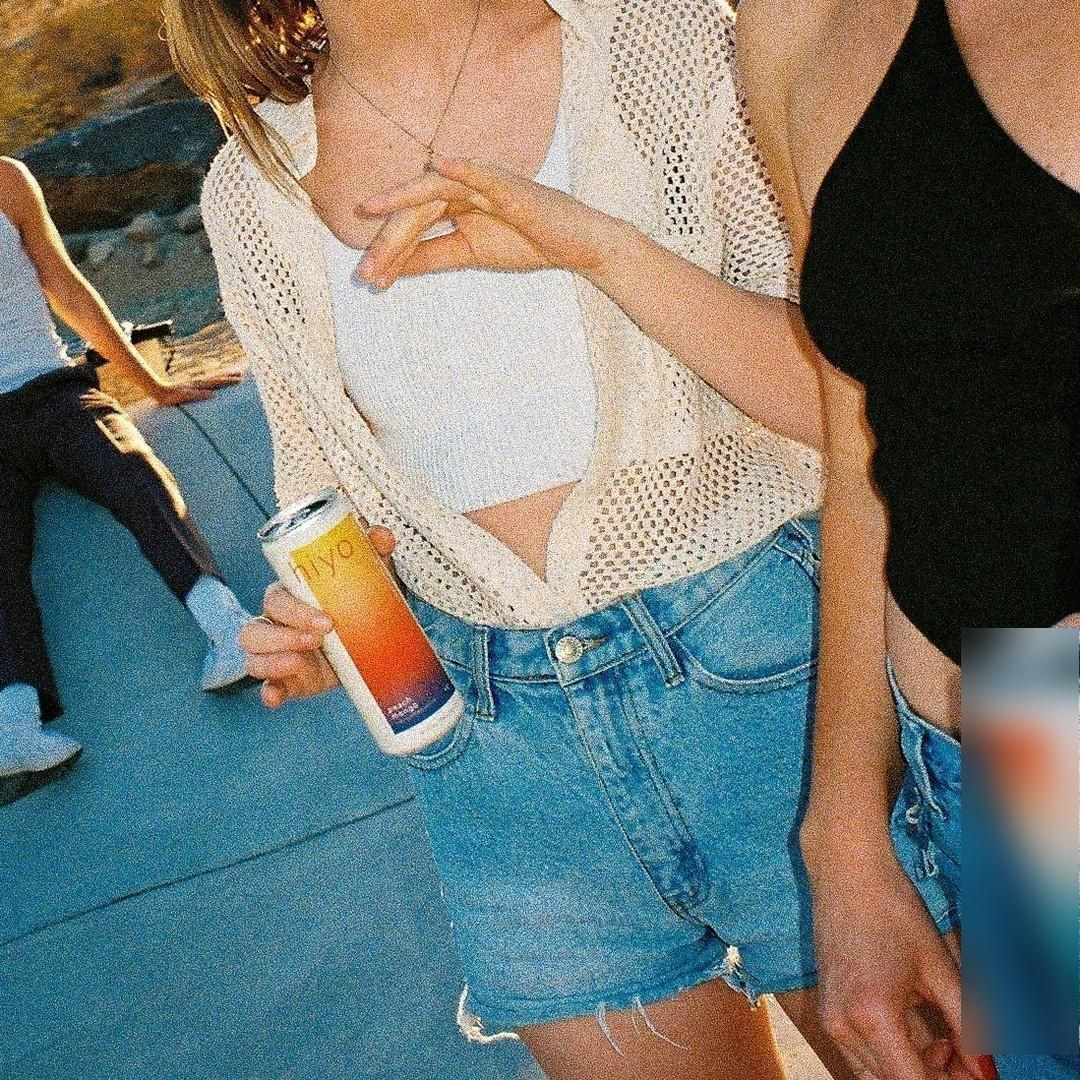tin can: (246, 483, 470, 765)
